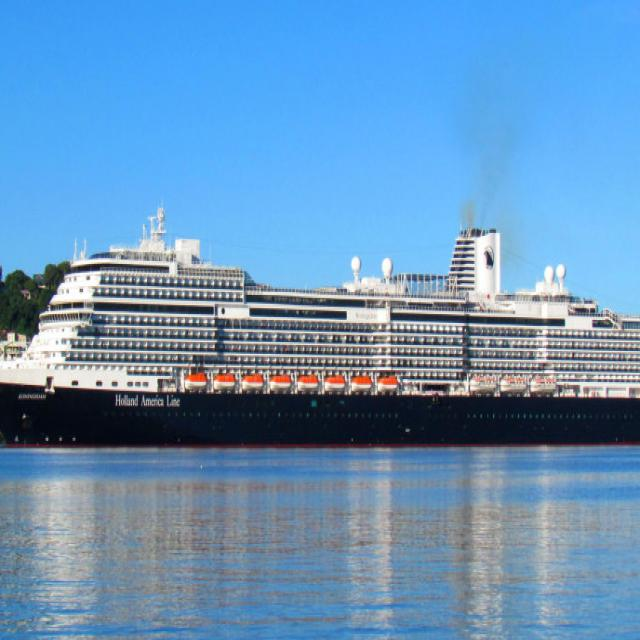cruises: (1, 202, 640, 454)
